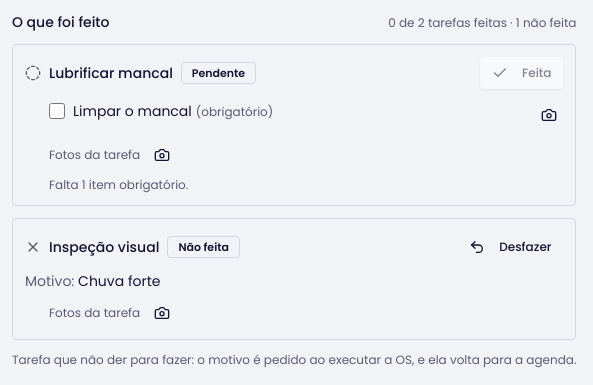
Scenario: OQueFoiFeito › marcar o item grava na hora e libera a tarefa
Click the checkbox labelled "Limpar o mancal". click: {"x": 57, "y": 111}
box: [49,103,65,119]
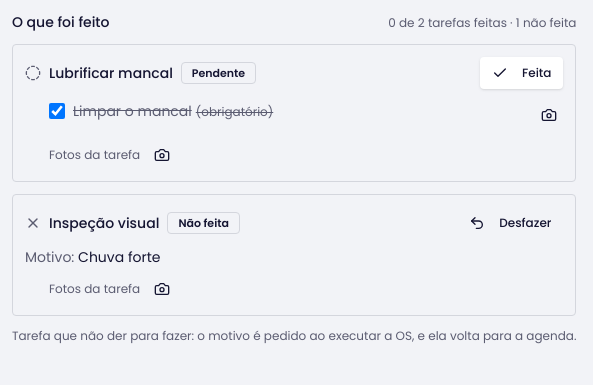
Expected: the button named "Marcar \"Lubrificar mancal\" como feita" is enabled, [480,57,563,89]
